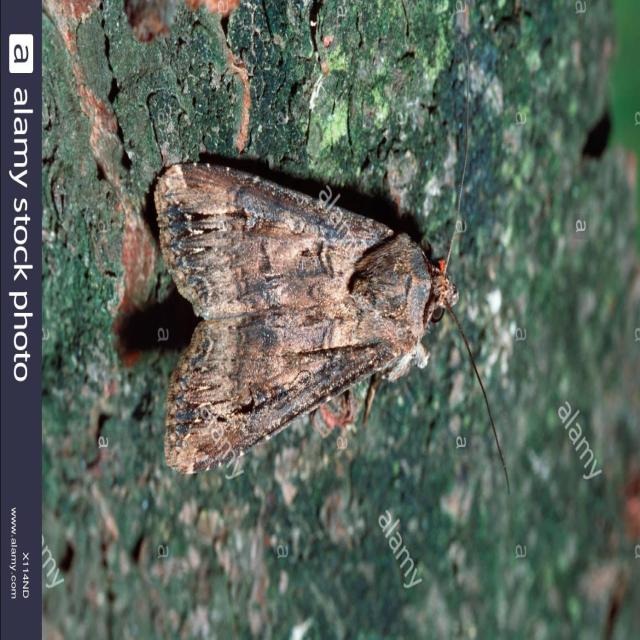black cutworm: (148, 169, 465, 510)
